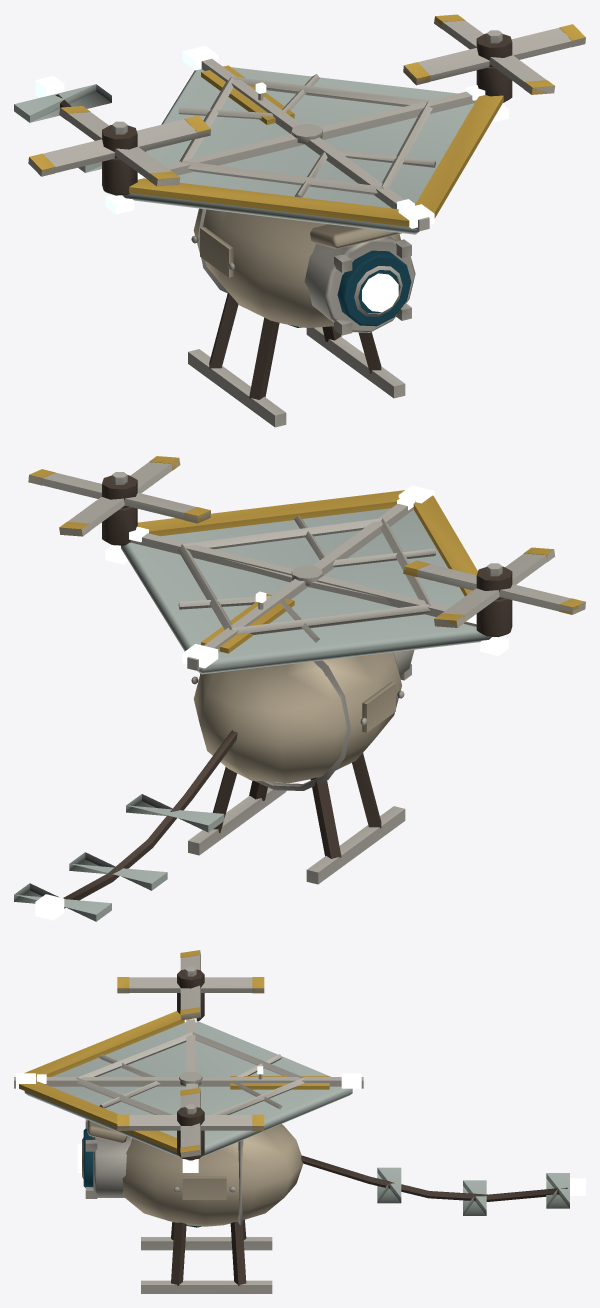
The model's file is kite.glb.
3 views of the same model, one above another, from view 1: azimuth 30°, elevation 25°; view 2: azimuth 150°, elevation 25°; view 3: azimuth 270°, elevation 25° (orthographic). The views are drawn at different scales.
Parts seen in each view (by area): view 1: Sail, Pod, Sail_edge, Spars, Sail_seams, Rotor_blades, Rotor_blades.001, Skids.001, Lens_barrel, Skids, Lens_glass, Sail_ribs (+13 smaller); view 2: Sail, Pod, Sail_edge, Spars, Sail_seams, Rotor_blades.001, Rotor_blades, Tail_bows, Skids.001, Sail_ribs, Skids, Tail_line (+10 smaller); view 3: Sail, Pod, Sail_edge, Skids.001, Sail_seams, Spars, Rotor_blades.001, Rotor_blades, Tail_bows, Tail_line, Lens_barrel, Skids (+8 smaller).
Part boxes in pixels (x1,y1,x2,y2): Sail: (122,66,474,234); Pod: (193,208,400,327); Sail_edge: (129,95,503,226); Spars: (164,58,476,231); Sail_seams: (179,76,432,194); Rotor_blades: (28,108,210,185); Rotor_blades.001: (403,19,585,94); Skids.001: (188,327,405,427); Lens_barrel: (304,236,415,332); Skids: (209,293,381,399); Lens_glass: (337,250,411,326); Sail_ribs: (178,74,435,197); Sail: (121,508,491,674); Pod: (193,652,401,782); Sail_edge: (137,490,477,596); Spars: (130,501,476,670); Sail_seams: (177,518,430,634); Rotor_blades.001: (28,459,210,536); Rotor_blades: (403,549,585,627); Tail_bows: (14,794,224,921); Skids.001: (188,782,405,884); Sail_ribs: (178,515,435,642); Skids: (212,753,381,858); Tail_line: (63,730,237,908); Sail: (24,1021,352,1160); Pod: (122,1124,303,1226); Sail_edge: (19,1011,184,1152); Skids.001: (141,1237,272,1293); Sail_seams: (76,1032,304,1114); Spars: (14,1019,363,1089); Rotor_blades.001: (117,1088,264,1157); Rotor_blades: (117,950,264,1019); Tail_bows: (377,1167,569,1215); Tail_line: (301,1155,567,1201); Lens_barrel: (93,1136,131,1197); Skids: (171,1219,246,1285).
Bounding box in the file's own units: 2.38 × 1.29 × 2.88.
